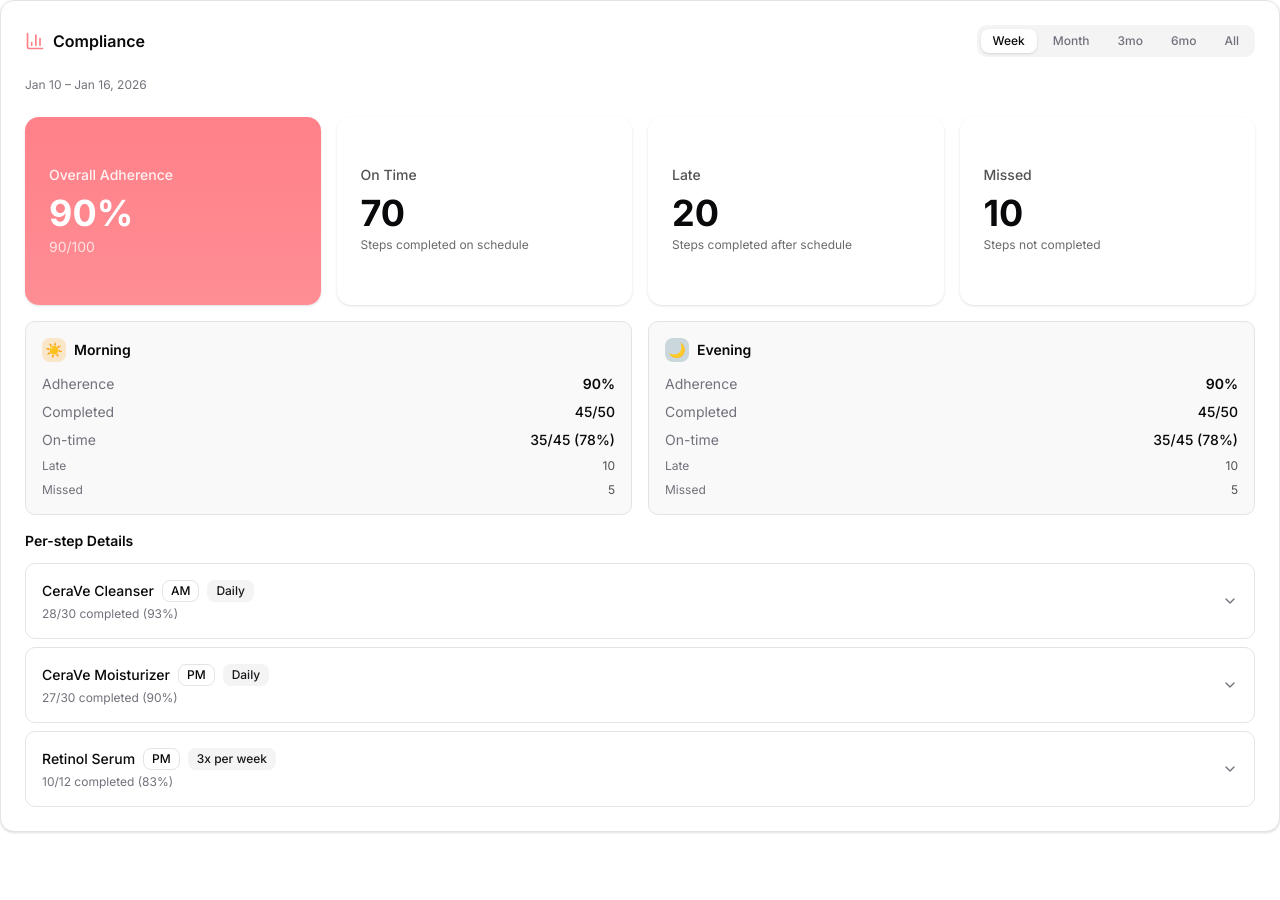
Test case: ComplianceSection - UI Tests › user views compliance data and switches between time periods
Expected: the text "Compliance" is shown, [25,31,145,51]
Expected: the text "90%" below "Overall Adherence" is shown, [49,191,133,235]
Click the button "Month" at (1071, 41), box [1041,29,1102,53]
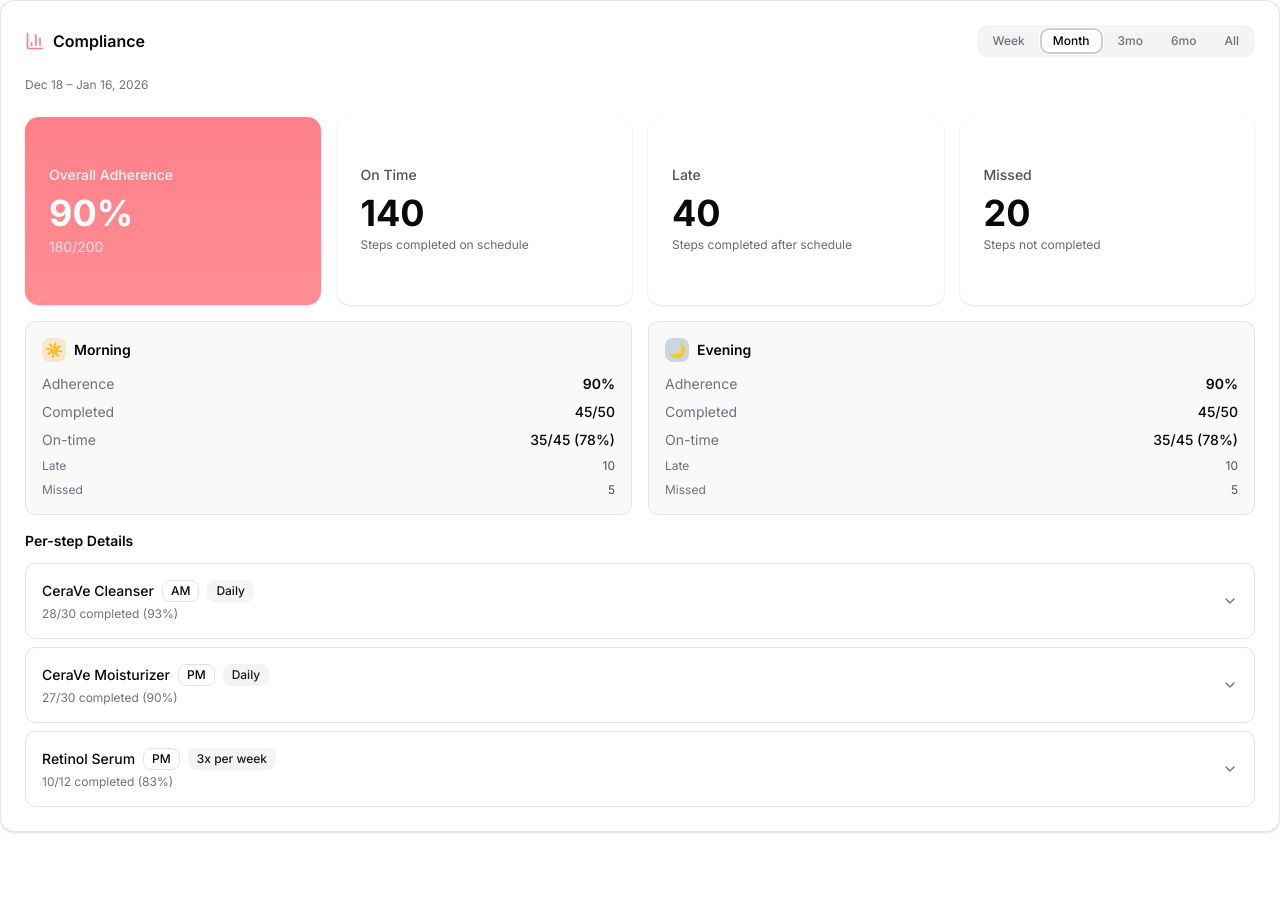
Now the text "140" is shown, box [360,191,425,235]
Now the text "40" is shown, box [672,191,721,235]
